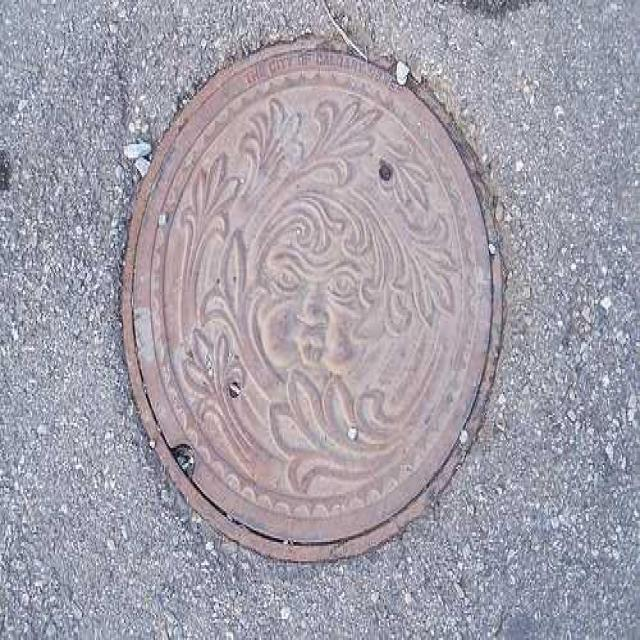manhole: (122, 39, 502, 560)
